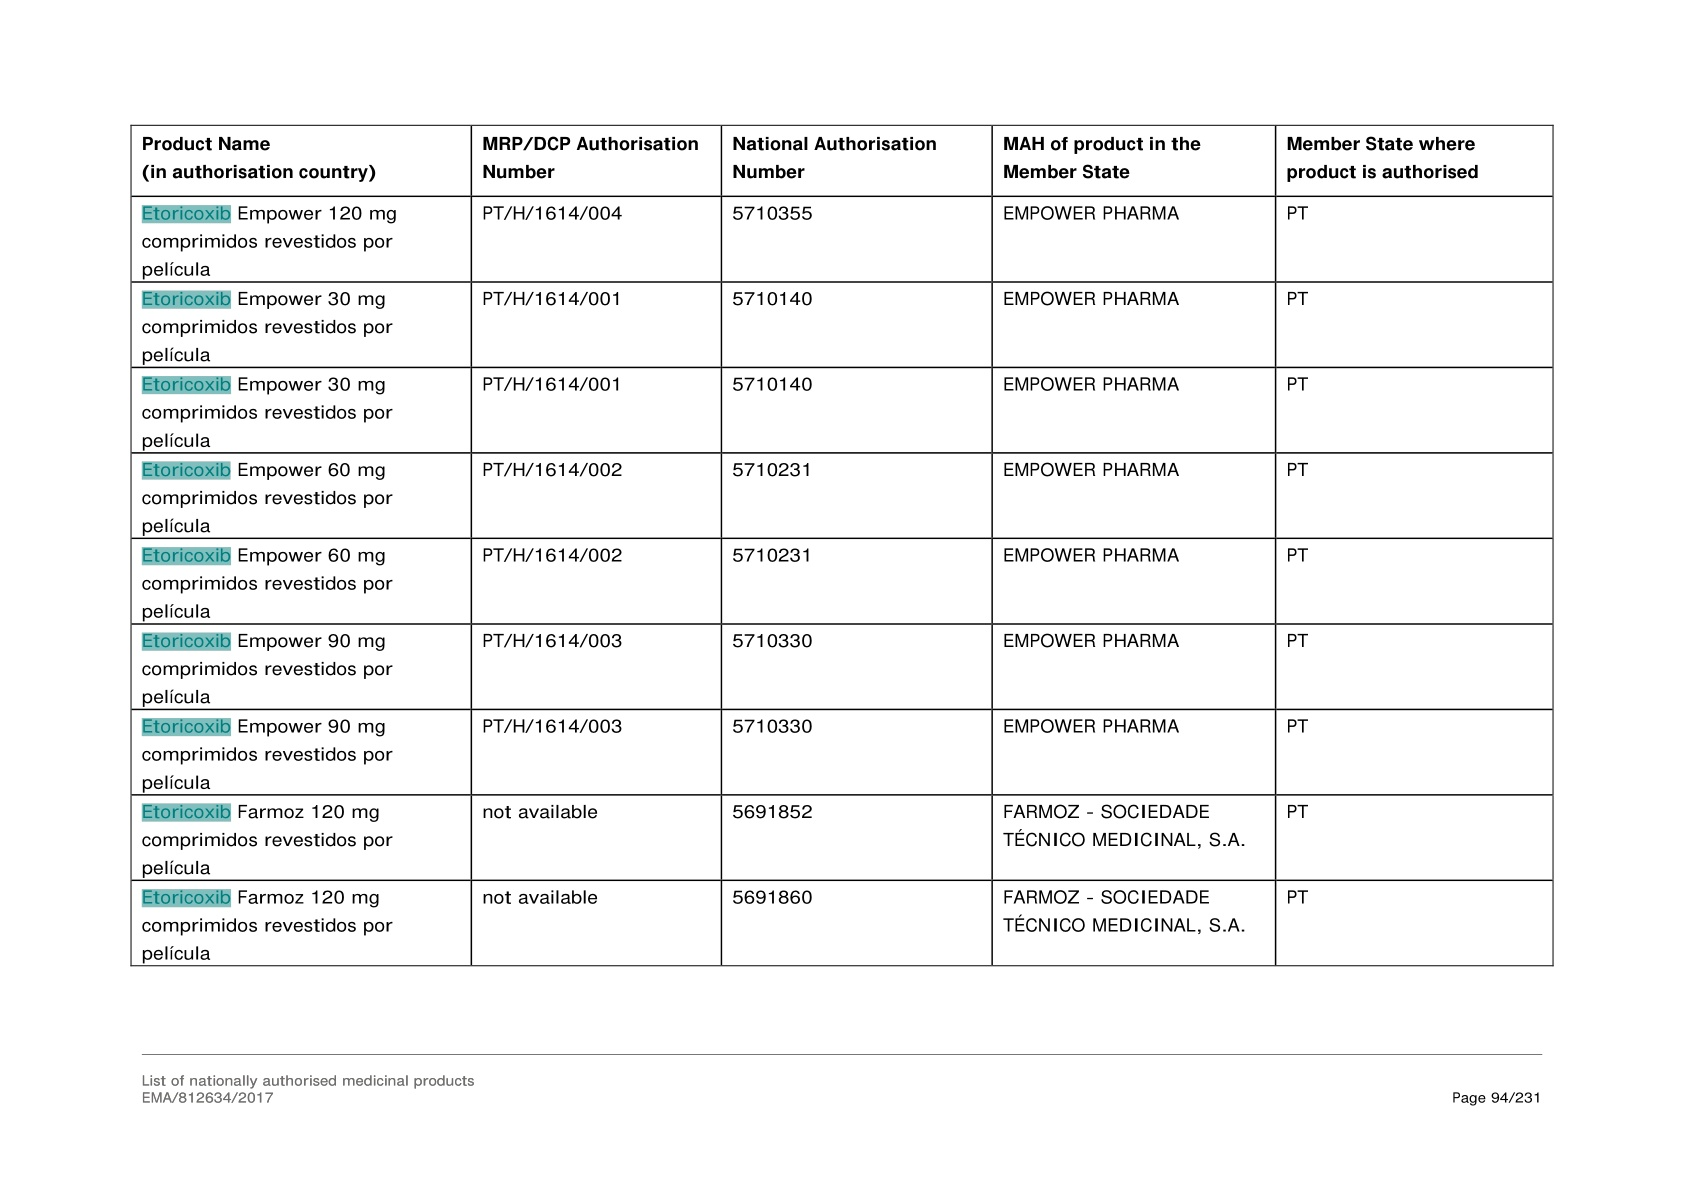full_lined: (129, 124, 1555, 968)
